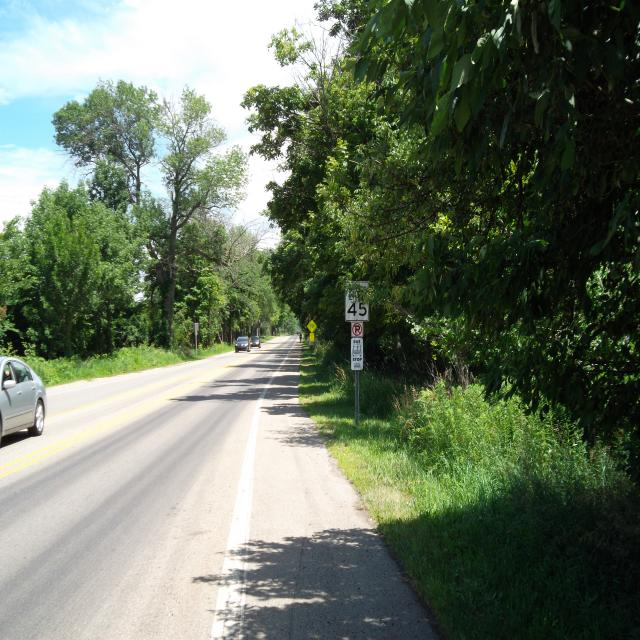regulatory: (344, 281, 371, 322), (350, 322, 364, 337), (310, 342, 314, 346), (304, 326, 306, 328)
warning: (309, 333, 314, 341)
